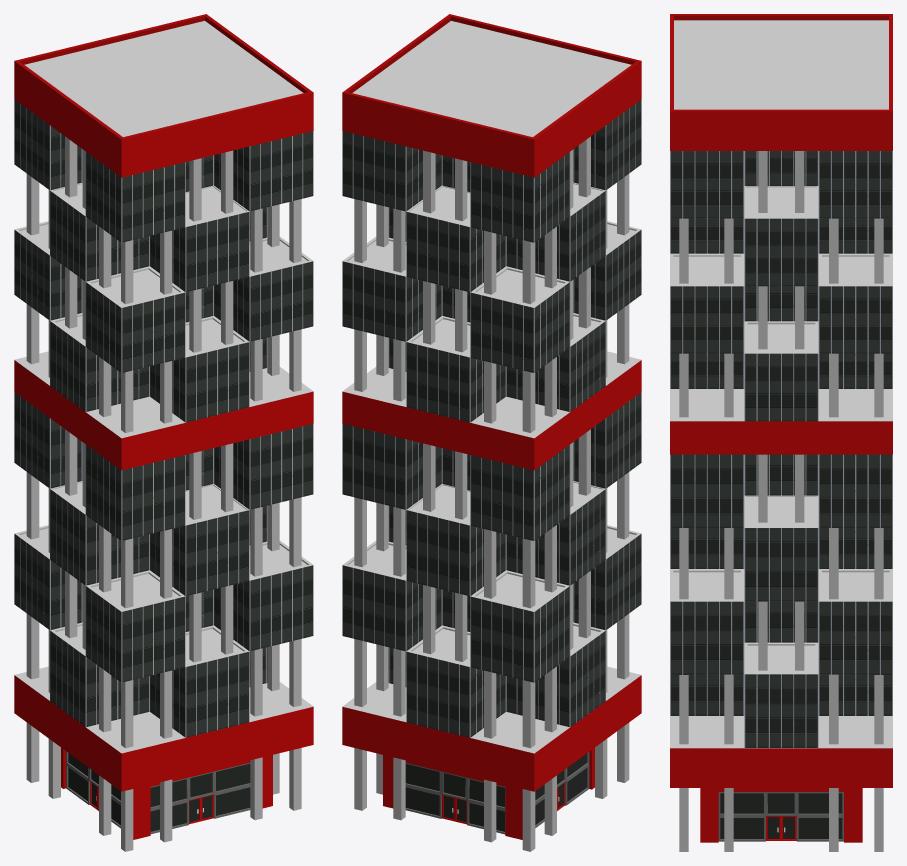
3 views of the same model, side by side, from view 1: azimuth 30°, elevation 25°; view 2: azimuth 150°, elevation 25°; view 3: azimuth 270°, elevation 25° (orthographic). The views are drawn at different scales.
Parts seen in each view (by area): view 1: BC-16; view 2: BC-16; view 3: BC-16.
Part boxes in pixels (left/top/right/bottom): BC-16: left=14, top=14, right=313, bottom=851; BC-16: left=342, top=14, right=641, bottom=851; BC-16: left=670, top=14, right=892, bottom=851.
Size of what is drawn, in the model's own units: 19.61 by 69.98 by 18.98.
